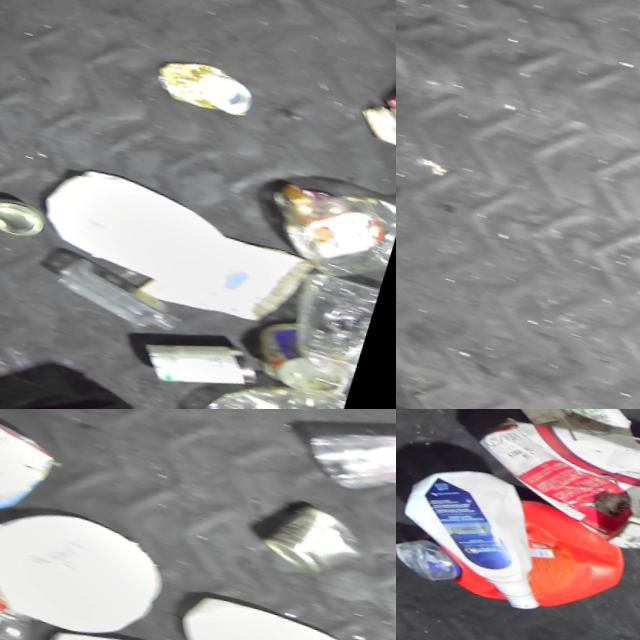can: (257, 485, 366, 570), (156, 48, 273, 119), (0, 185, 60, 241)
milk_jug: (50, 158, 272, 297), (0, 491, 186, 640), (175, 578, 396, 640), (37, 609, 255, 640)
non_white_jug: (0, 409, 77, 547)
plastic_bottle: (203, 352, 360, 409), (0, 553, 52, 640)
